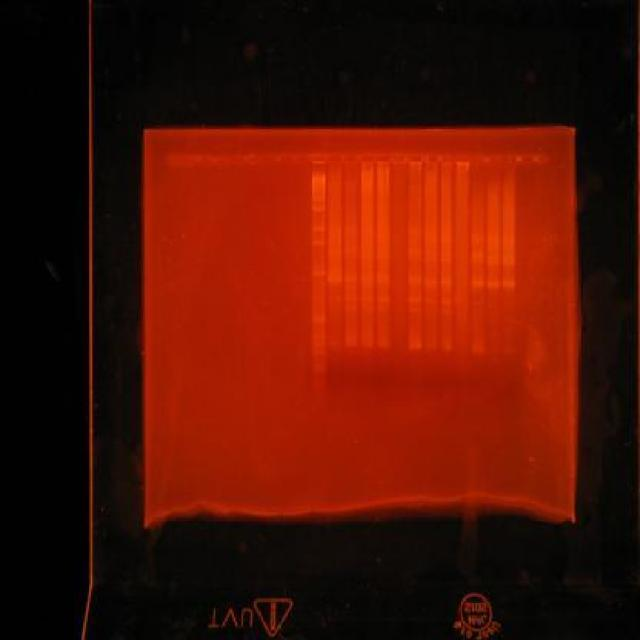B: (360, 340, 376, 348), (470, 298, 486, 306), (407, 295, 422, 303), (407, 342, 422, 350), (327, 278, 342, 286), (439, 298, 453, 306), (424, 298, 438, 306), (328, 340, 342, 348), (472, 345, 486, 353), (360, 294, 374, 302), (470, 252, 484, 260), (502, 347, 516, 355), (344, 341, 358, 348), (470, 278, 486, 284), (501, 280, 517, 286), (343, 296, 359, 302), (423, 344, 439, 350), (423, 281, 439, 287), (360, 274, 376, 280), (376, 274, 392, 280), (376, 280, 392, 286), (407, 306, 422, 312), (407, 250, 422, 256), (501, 254, 516, 260), (327, 306, 342, 312), (407, 274, 422, 280), (407, 280, 422, 286), (327, 296, 342, 302), (327, 272, 342, 278), (376, 296, 390, 302), (377, 342, 391, 348), (376, 306, 390, 312), (439, 282, 453, 288), (486, 254, 500, 260), (439, 344, 453, 350), (344, 306, 358, 312), (486, 284, 500, 290), (439, 308, 453, 314), (424, 256, 438, 262), (344, 247, 358, 253), (470, 238, 484, 244), (486, 238, 500, 244), (486, 233, 500, 239), (501, 285, 517, 290), (423, 276, 439, 281), (343, 275, 359, 280), (407, 255, 422, 260), (327, 229, 342, 234), (440, 258, 452, 264), (486, 259, 500, 264), (502, 260, 516, 265), (486, 280, 500, 285), (360, 280, 374, 285), (344, 280, 358, 285), (470, 259, 484, 264), (376, 256, 390, 261), (344, 230, 358, 235), (439, 278, 453, 282), (470, 284, 484, 288), (470, 234, 484, 238)
L: (163, 144, 554, 170)
M: (309, 170, 329, 402)
P: (312, 380, 328, 398), (311, 364, 327, 376), (310, 332, 328, 340), (310, 314, 326, 322), (311, 341, 327, 348), (312, 349, 326, 357), (312, 205, 326, 212), (312, 225, 326, 232), (310, 270, 326, 276), (310, 240, 326, 246), (310, 194, 326, 200)
Pc: (165, 153, 182, 167), (310, 152, 326, 166), (182, 154, 198, 168), (198, 154, 214, 168), (246, 152, 262, 166), (343, 151, 359, 164), (278, 152, 294, 165), (408, 152, 422, 166), (263, 152, 277, 166), (328, 152, 343, 165), (230, 154, 246, 166), (487, 154, 502, 166), (214, 154, 229, 166), (391, 153, 407, 164), (376, 153, 392, 164), (503, 154, 519, 164), (536, 153, 550, 164), (456, 156, 470, 167), (360, 152, 374, 163), (424, 153, 438, 164), (521, 153, 534, 164), (440, 154, 454, 164), (472, 157, 486, 166), (294, 153, 308, 161)
